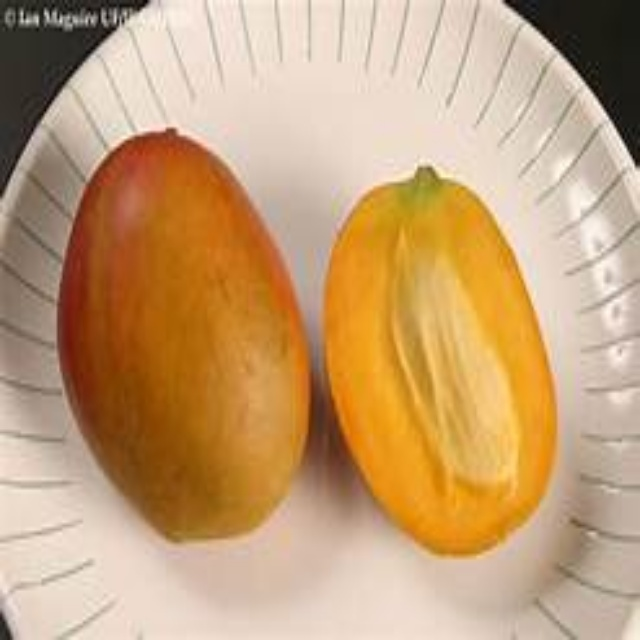mango: (60, 134, 302, 554), (308, 166, 558, 561)
